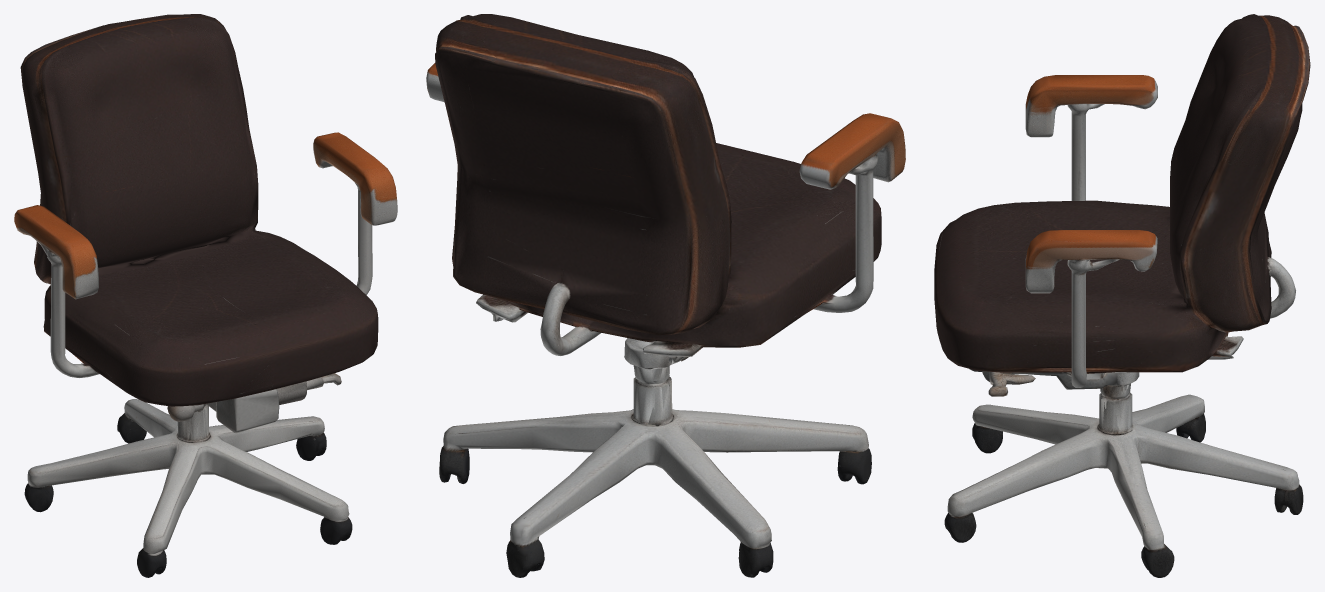
The model's file is OfficeChair.fbx.
3 views of the same model, side by side, from view 1: azimuth 30°, elevation 25°; view 2: azimuth 150°, elevation 25°; view 3: azimuth 270°, elevation 25° (orthographic). The views are drawn at different scales.
Parts seen in each view (by area): view 1: mesh_node; view 2: mesh_node; view 3: mesh_node.
Part boxes in pixels (x1,y1,x2,y2): mesh_node: [14, 14, 397, 577]; mesh_node: [426, 14, 905, 577]; mesh_node: [934, 14, 1310, 577].
Bounding box in the file's own units: 153 × 191 × 144.
Materials: 1 (1 with a texture image).
